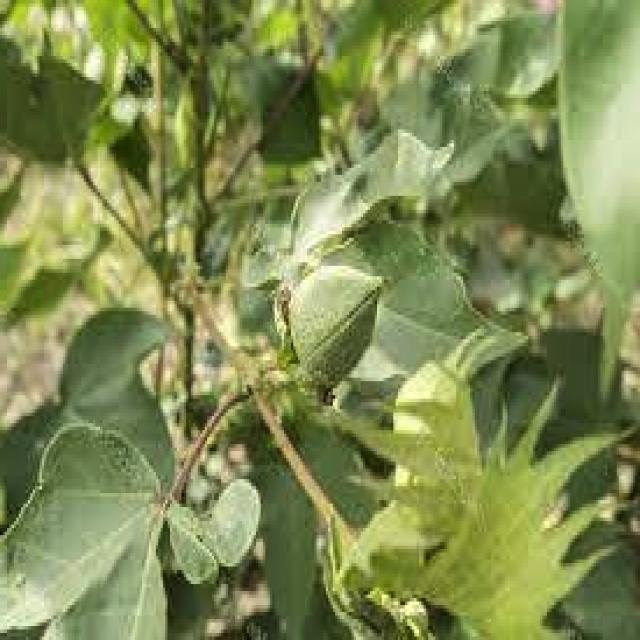Cotton Bud: (325, 364, 607, 638)
Early Boll: (270, 256, 390, 390)
